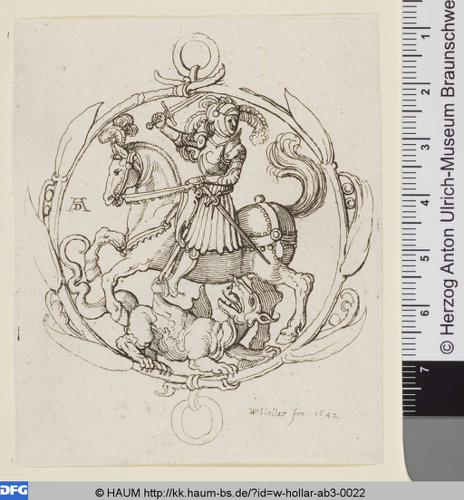dragon: (57, 233, 279, 391)
horse: (85, 139, 315, 346)
knight: (149, 101, 244, 288)
sword: (199, 184, 271, 264), (144, 89, 211, 131)
